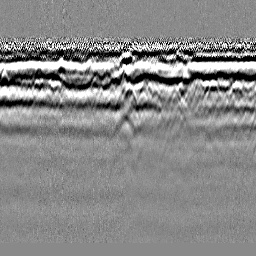cavity: (120, 81, 137, 104)
